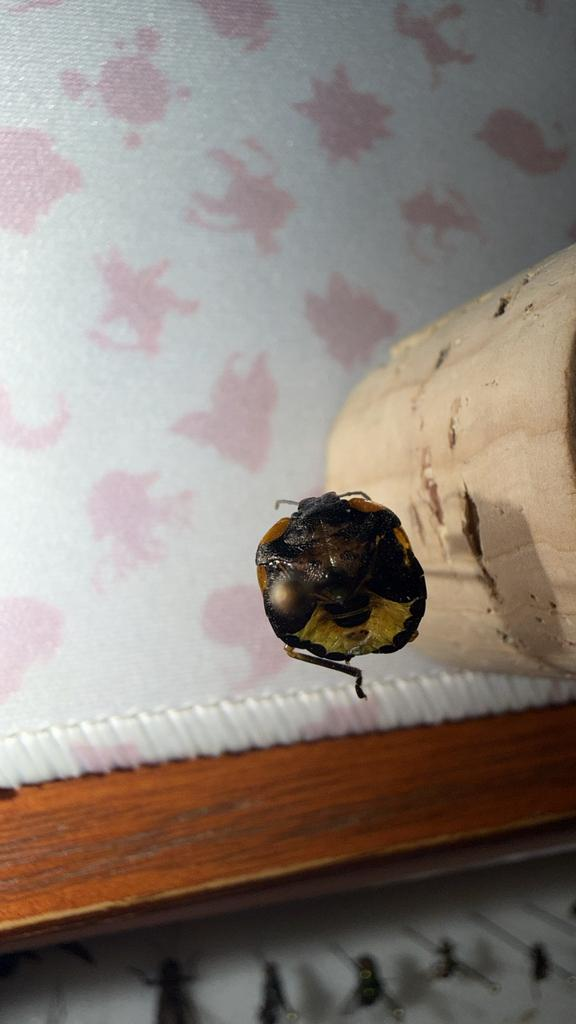stink_bugs: (205, 442, 493, 720)
